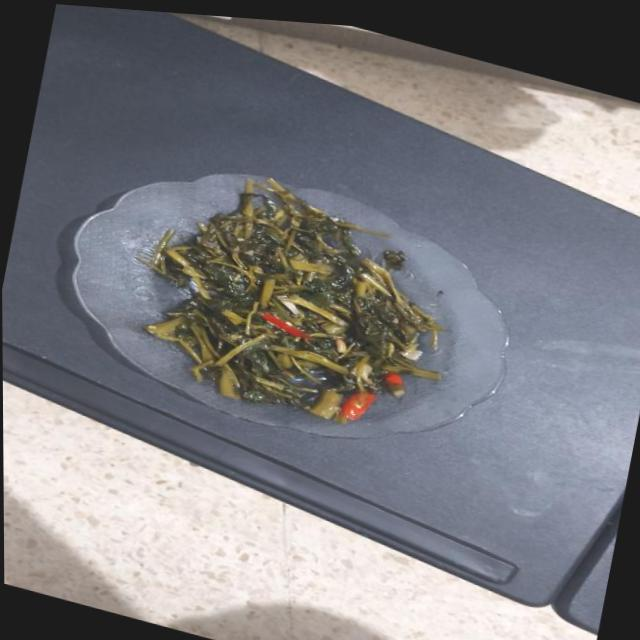tumis_kangkung: (153, 178, 444, 424)
